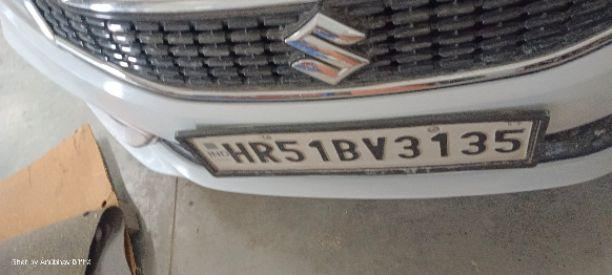license_plate: (0, 0, 611, 199), (175, 107, 550, 177)
